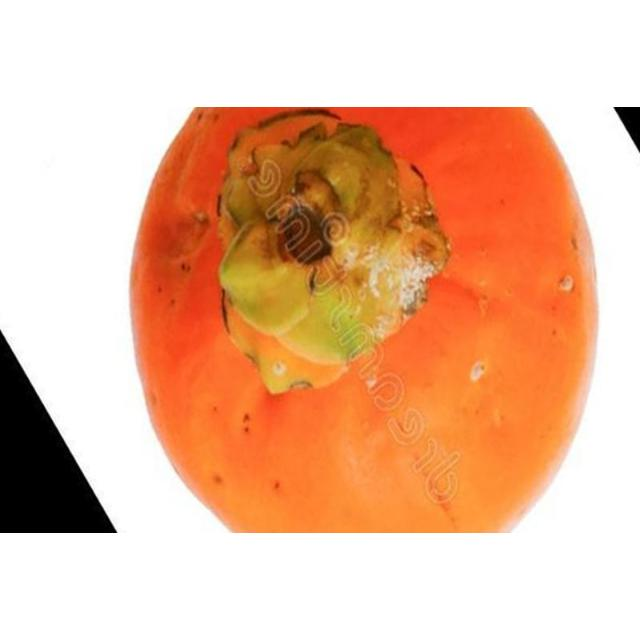good: (127, 107, 602, 533)
